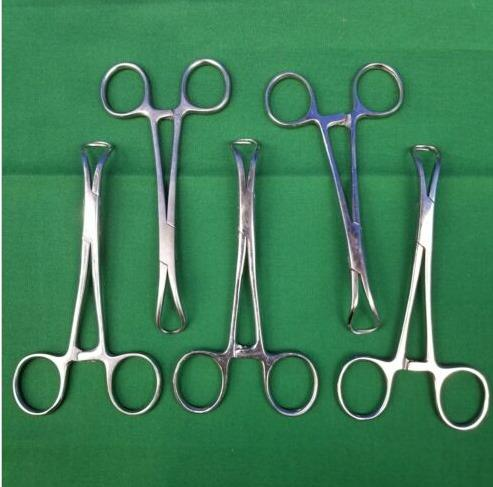Backhaus: (327, 139, 493, 435), (170, 136, 325, 422), (12, 138, 165, 424), (262, 58, 405, 342), (98, 55, 233, 332)
